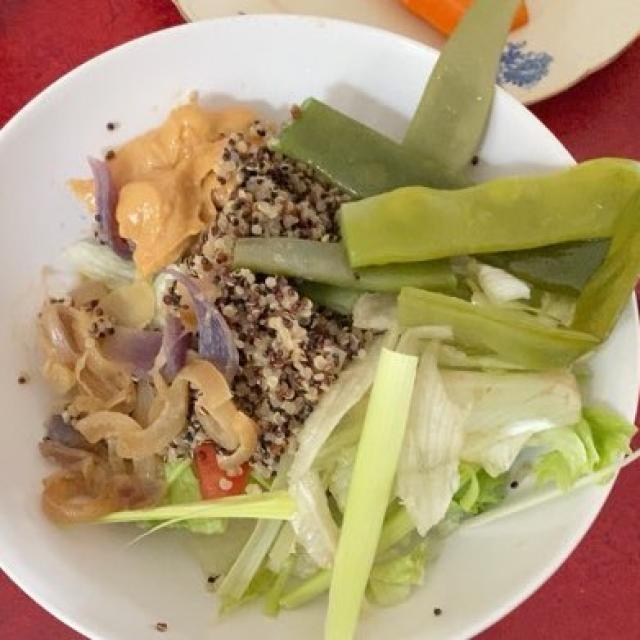leek: (104, 350, 425, 624)
onion: (37, 270, 254, 529)
quinoa: (201, 136, 358, 472)
salad: (385, 345, 605, 598)
